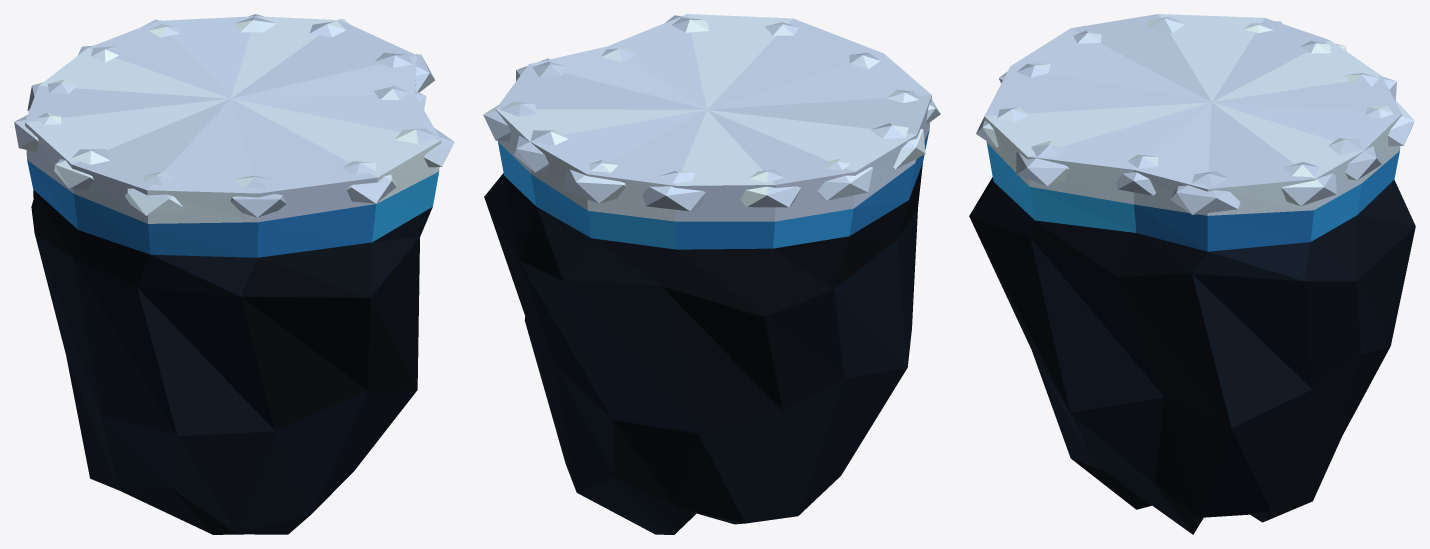
Rendered from ConceptIslet1.fbx.
3 renders of one model, left to right at view 1: azimuth 30°, elevation 25°; view 2: azimuth 150°, elevation 25°; view 3: azimuth 270°, elevation 25°, orthographic. The views are drawn at different scales.
Parts seen in each view (by area): view 1: ConceptIslet1; view 2: ConceptIslet1; view 3: ConceptIslet1.
Part boxes in pixels (x1=…): ConceptIslet1: x1=14, y1=14, x2=454, y2=534; ConceptIslet1: x1=483, y1=14, x2=940, y2=534; ConceptIslet1: x1=969, y1=14, x2=1415, y2=534.
Size of the model in its own units: 2.03 by 2.15 by 2.09.
